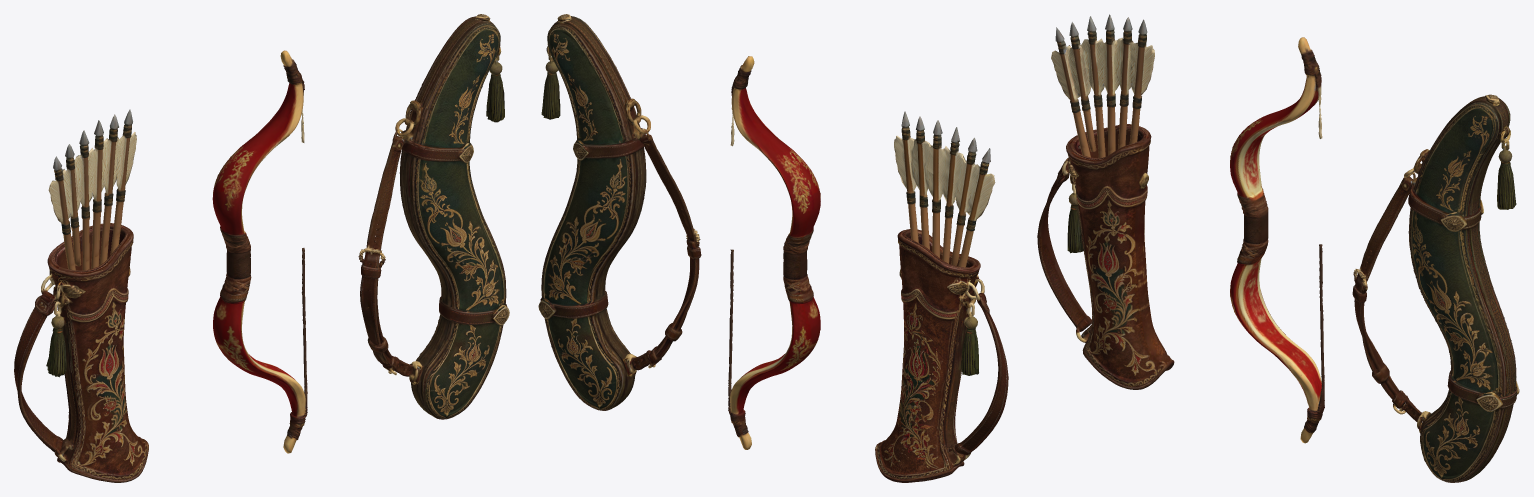
Rendered from Yay, sadak ve tirkeş takımı.glb.
The picture shows the model from 3 angles, left to right: view 1: azimuth 30°, elevation 25°; view 2: azimuth 150°, elevation 25°; view 3: azimuth 330°, elevation 25°; orthographic projection. The views are drawn at different scales.
Parts seen in each view (by area): view 1: tripo_node_f0cbef48-1d00-4d71-8318-6371468d873a; view 2: tripo_node_f0cbef48-1d00-4d71-8318-6371468d873a; view 3: tripo_node_f0cbef48-1d00-4d71-8318-6371468d873a.
Boxes of the visible parts, box(x1,y1,x2,y2) form: tripo_node_f0cbef48-1d00-4d71-8318-6371468d873a: box(14, 14, 509, 482); tripo_node_f0cbef48-1d00-4d71-8318-6371468d873a: box(538, 14, 1008, 482); tripo_node_f0cbef48-1d00-4d71-8318-6371468d873a: box(1037, 14, 1519, 482).
Bounding box in the file's own units: 0.9785 × 0.7828 × 0.1315.
Materials: 1 (1 with a texture image).
